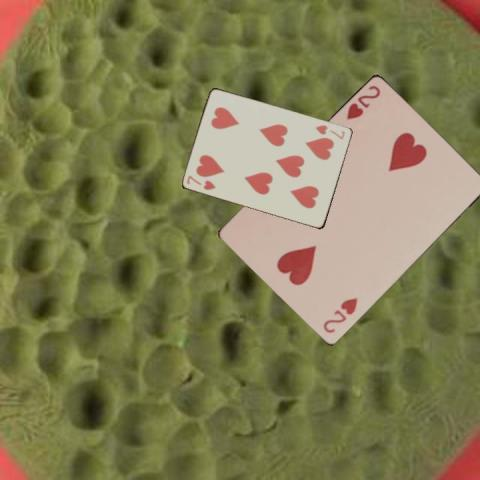2h: (320, 293, 359, 334), (343, 82, 382, 121)
7h: (312, 122, 346, 141), (184, 173, 217, 191)
